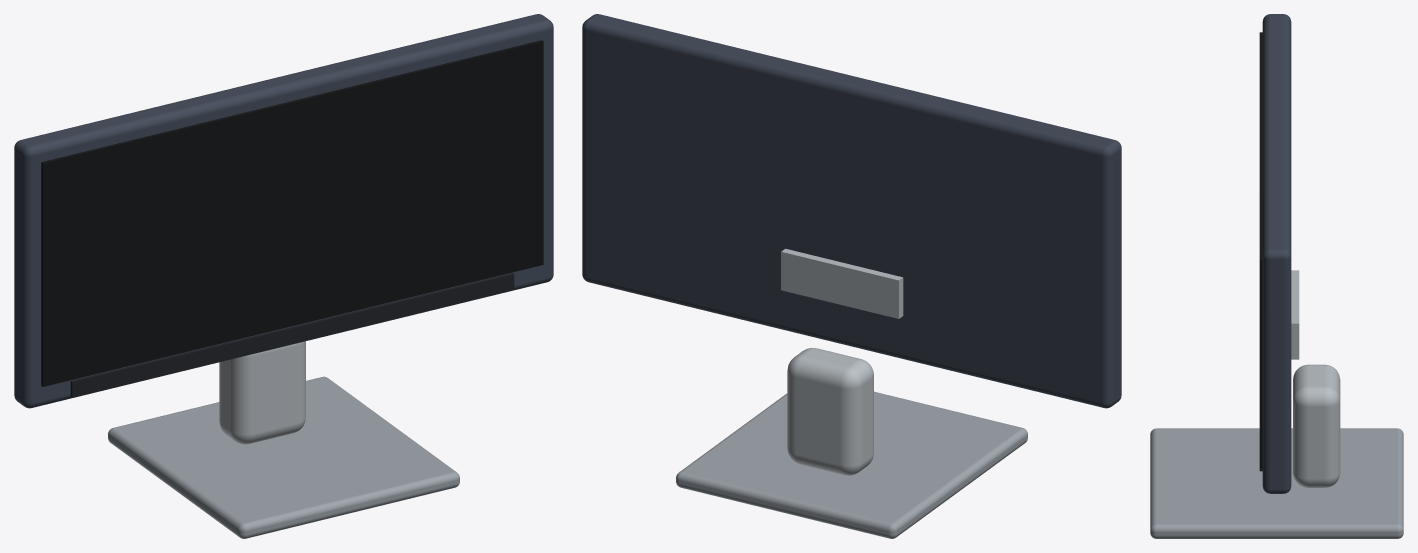
Rendered from desktop.glb.
The picture shows the model from 3 angles, left to right: view 1: azimuth 30°, elevation 25°; view 2: azimuth 150°, elevation 25°; view 3: azimuth 270°, elevation 25°; orthographic projection. The views are drawn at different scales.
Parts seen in each view (by area): view 1: material-3-screen, material-0-base, material-2-body, material-4-grating, material-1-metal; view 2: material-2-body, material-0-base, material-1-metal; view 3: material-0-base, material-2-body, material-1-metal, material-3-screen.
Boxes of the visible parts, box(x1,y1,x2,y2) form: material-3-screen: box(41, 40, 543, 386); material-0-base: box(108, 376, 459, 538); material-2-body: box(14, 14, 553, 408); material-4-grating: box(70, 273, 514, 397); material-1-metal: box(219, 341, 305, 444); material-2-body: box(582, 14, 1121, 408); material-0-base: box(676, 391, 1027, 538); material-1-metal: box(781, 248, 903, 475); material-0-base: box(1150, 428, 1403, 538); material-2-body: box(1262, 14, 1291, 493); material-1-metal: box(1291, 270, 1340, 487); material-3-screen: box(1259, 32, 1262, 468).
Bounding box in the file's own units: 0.72 × 0.5 × 0.32.
